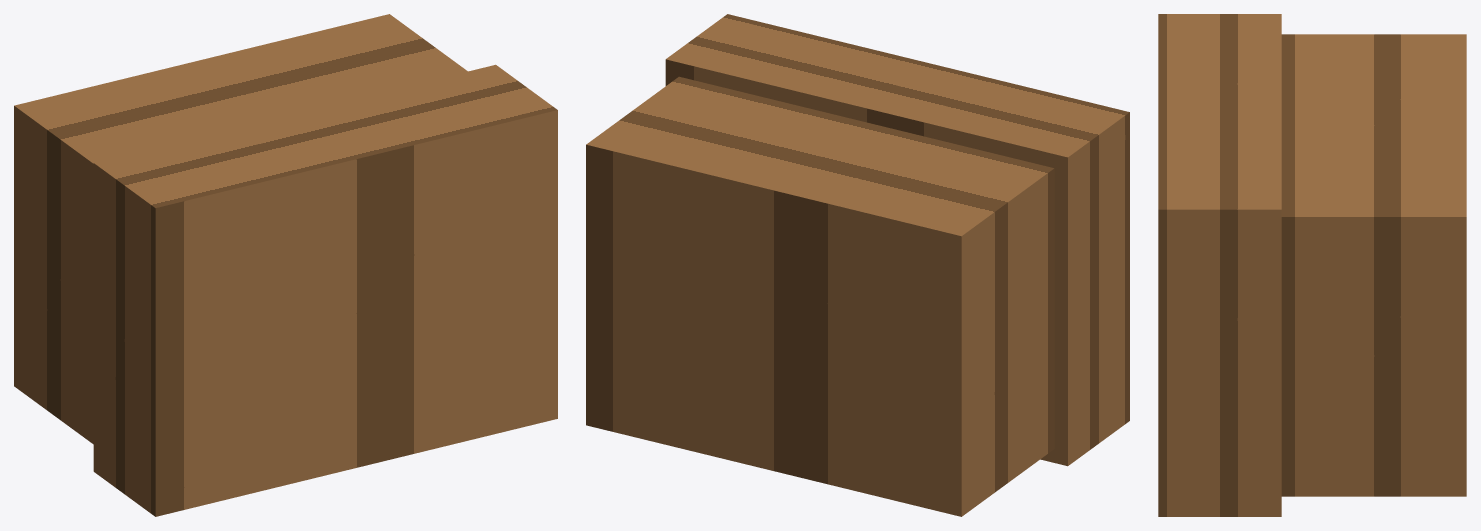
The model's file is chest.glb.
3 renders of one model, left to right at view 1: azimuth 30°, elevation 25°; view 2: azimuth 150°, elevation 25°; view 3: azimuth 270°, elevation 25°, orthographic.
Parts seen in each view (by area): view 1: chest; view 2: chest; view 3: chest.
Boxes of the visible parts, x1,y1,x2,y2 form: chest: [14, 14, 557, 516]; chest: [586, 14, 1129, 516]; chest: [1158, 14, 1466, 516].
Size of the model in its own units: 0.9375 by 0.6875 by 0.625.
1 material, 1 textured.
